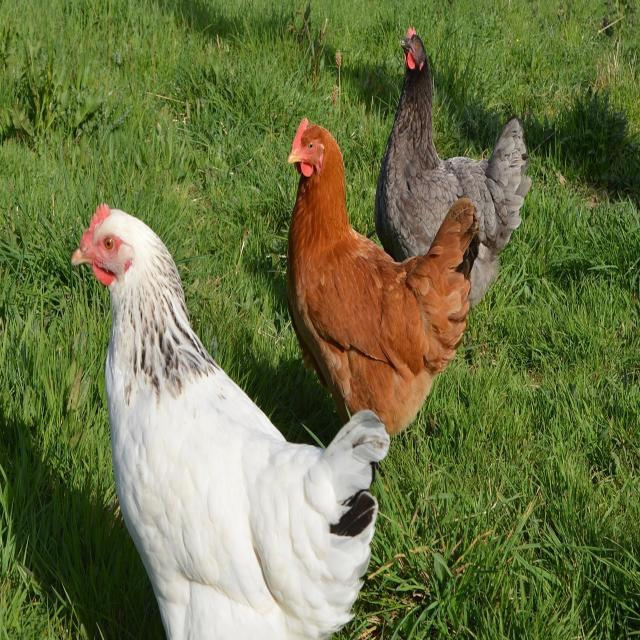Chicken: (61, 196, 404, 640), (283, 120, 486, 441), (388, 28, 532, 324)
